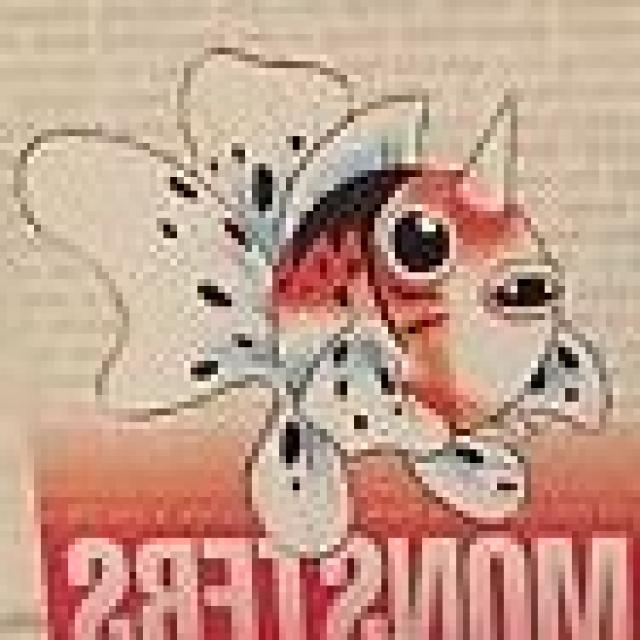Seaking: (108, 59, 565, 525)
